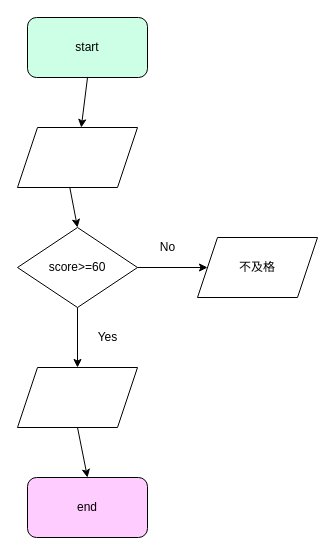
This 335x555 diagram has some shape labels left out. Here are the shapes that lost their labels. From the top down, the centre of each, then its label:
At (77,157): "score".
At (77,397): "及格".
